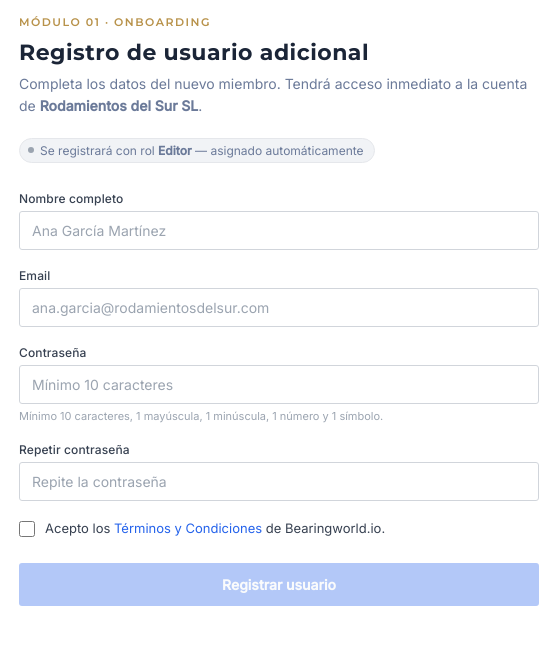
Test case: FRU · AdditionalUser · validación en línea › un email mal formado enseña «Introduce un email válido.» y NO consulta a la base
The image size is (559, 645).
Type "esto no" into the field labelled "Email" at point(279, 307), box [19, 288, 539, 327]
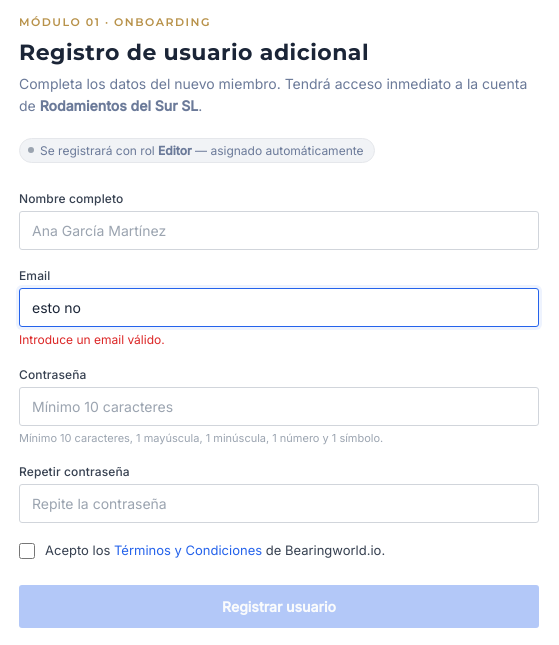
Expected: the text "Introduce un email válido." is shown, [19, 332, 165, 347]
